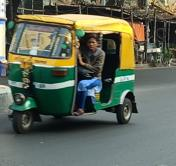Auto: (6, 13, 138, 136)
